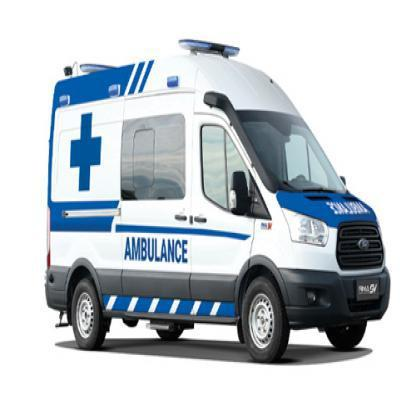ambulance_off: (46, 41, 390, 362)
